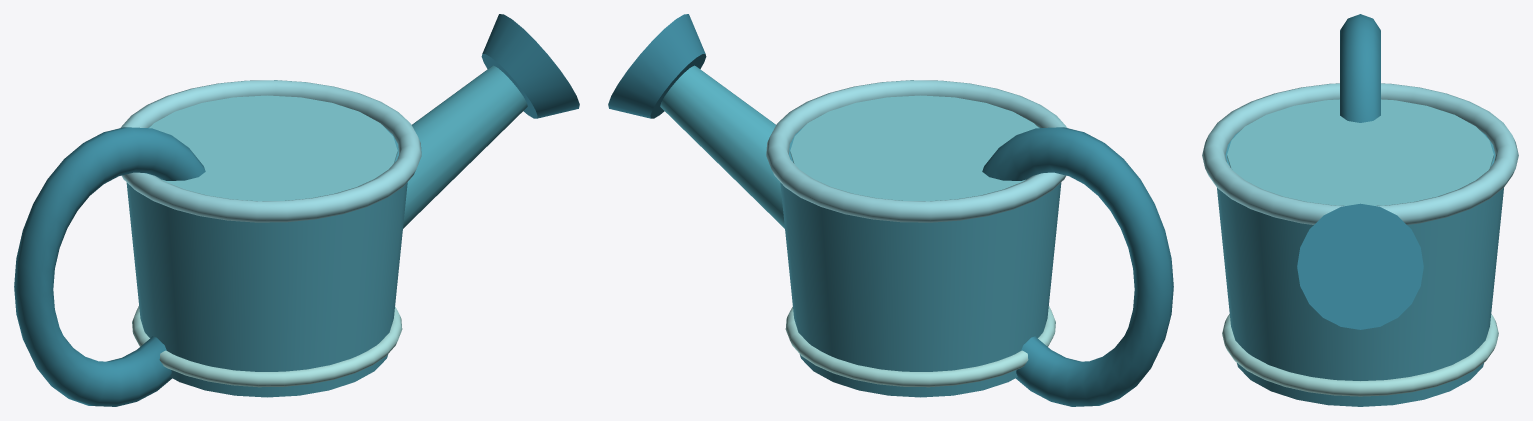
File: regador-azul.glb
3 views of the same model, side by side, from view 1: azimuth 30°, elevation 25°; view 2: azimuth 150°, elevation 25°; view 3: azimuth 270°, elevation 25° (orthographic). The views are drawn at different scales.
Visible parts, largest first — view 1: recipiente, alca, tampa, borda, bico, chuveiro, faixa; view 2: recipiente, alca, tampa, borda, bico, chuveiro, faixa; view 3: recipiente, tampa, chuveiro, borda, faixa, alca.
Part boxes in pixels (bbox=[...]): recipiente: bbox=[126, 125, 407, 397]; alca: bbox=[14, 127, 205, 406]; tampa: bbox=[149, 95, 397, 201]; borda: bbox=[120, 80, 421, 222]; bico: bbox=[403, 65, 527, 228]; chuveiro: bbox=[481, 14, 579, 118]; faixa: bbox=[132, 306, 402, 387]; recipiente: bbox=[780, 125, 1061, 397]; alca: bbox=[982, 127, 1173, 406]; tampa: bbox=[790, 95, 1038, 201]; borda: bbox=[766, 80, 1067, 222]; bico: bbox=[660, 65, 784, 228]; chuveiro: bbox=[608, 14, 706, 118]; faixa: bbox=[785, 306, 1055, 387]; recipiente: bbox=[1217, 130, 1503, 406]; tampa: bbox=[1227, 99, 1493, 205]; chuveiro: bbox=[1297, 203, 1423, 329]; borda: bbox=[1202, 83, 1518, 224]; faixa: bbox=[1222, 314, 1498, 396]; alca: bbox=[1340, 14, 1380, 122].
Bounding box in the file's own units: 1.94 × 0.9777 × 0.95.
